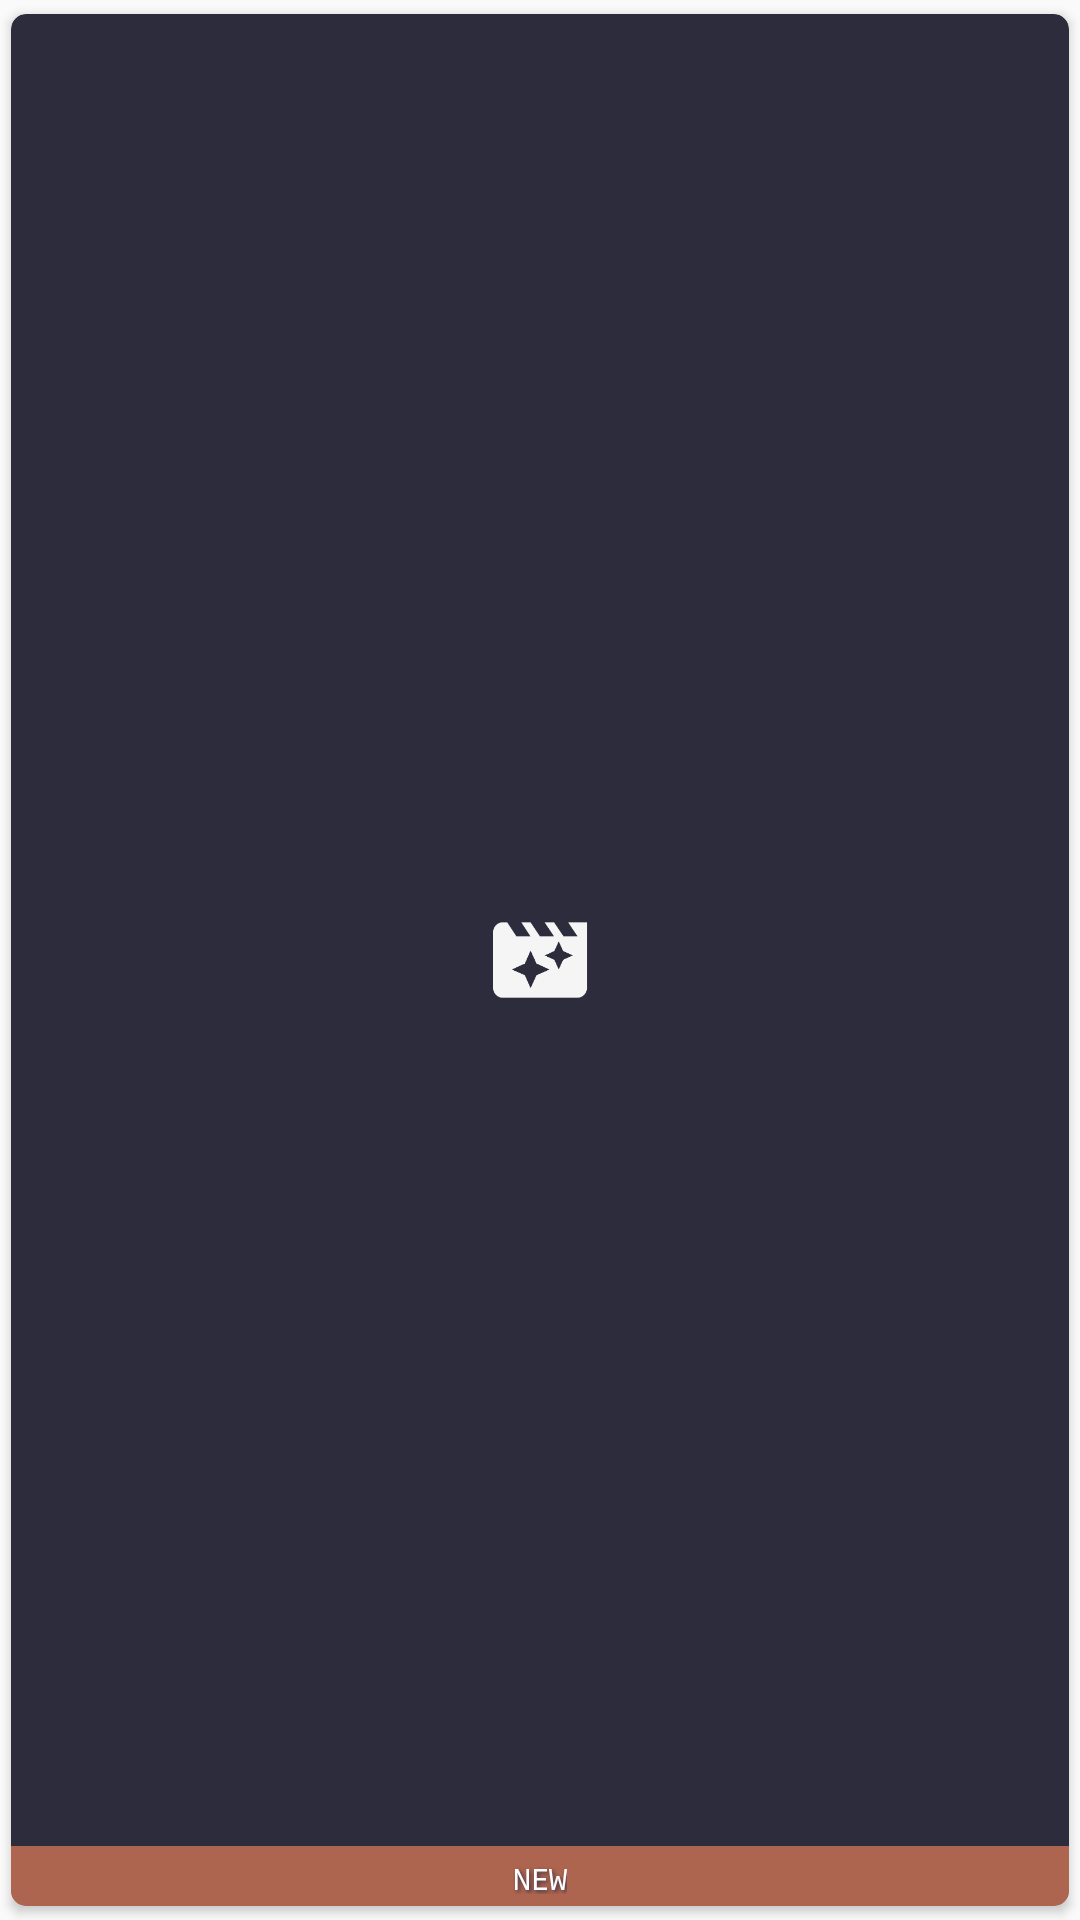

Icons on this 1080 x 1920 Android screen, each with its box as {"left": x1, "top": y1, "right": x2, "bottom": y2}:
movie filter: {"left": 493, "top": 922, "right": 587, "bottom": 998}
